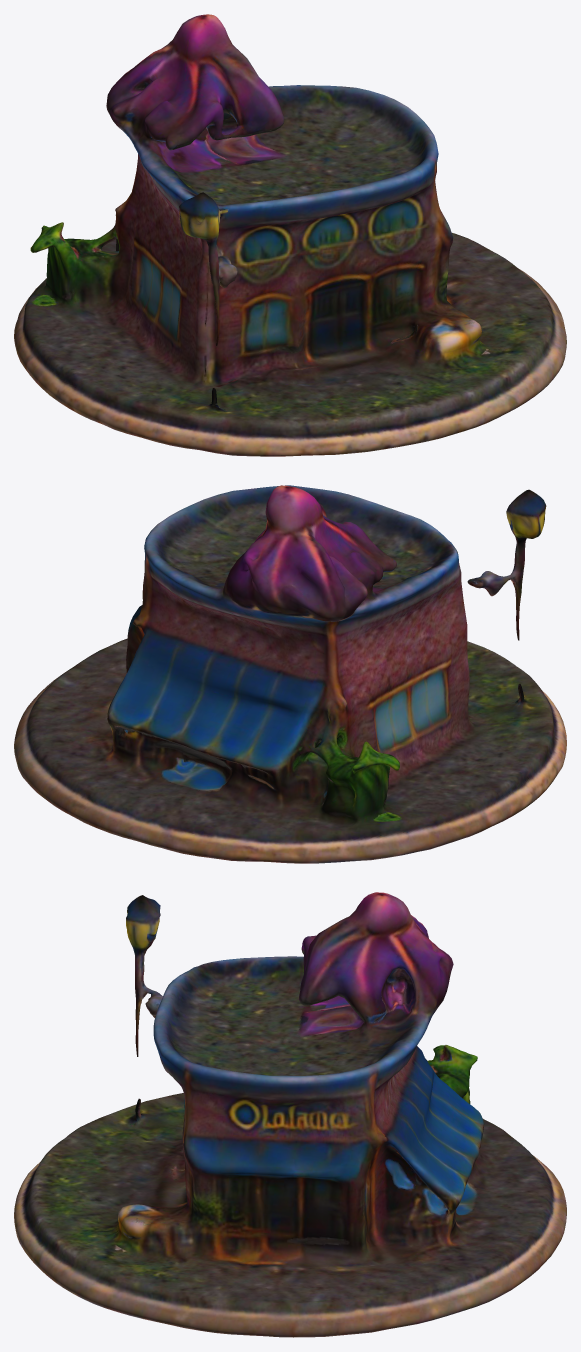
File: db5003c99da0_35887557abd3_solarpunk_cafe_with.glb
3 renders of one model, top to bottom at view 1: azimuth 30°, elevation 25°; view 2: azimuth 150°, elevation 25°; view 3: azimuth 270°, elevation 25°, orthographic.
Visible parts, largest first — view 1: mesh; view 2: mesh; view 3: mesh.
Boxes of the visible parts, x1,y1,x2,y2 form: mesh: (14, 14, 566, 456); mesh: (14, 485, 566, 863); mesh: (14, 892, 566, 1337).
Size of the model in its own units: 0.9977 by 0.6132 by 0.9989.
1 material, 1 textured.
